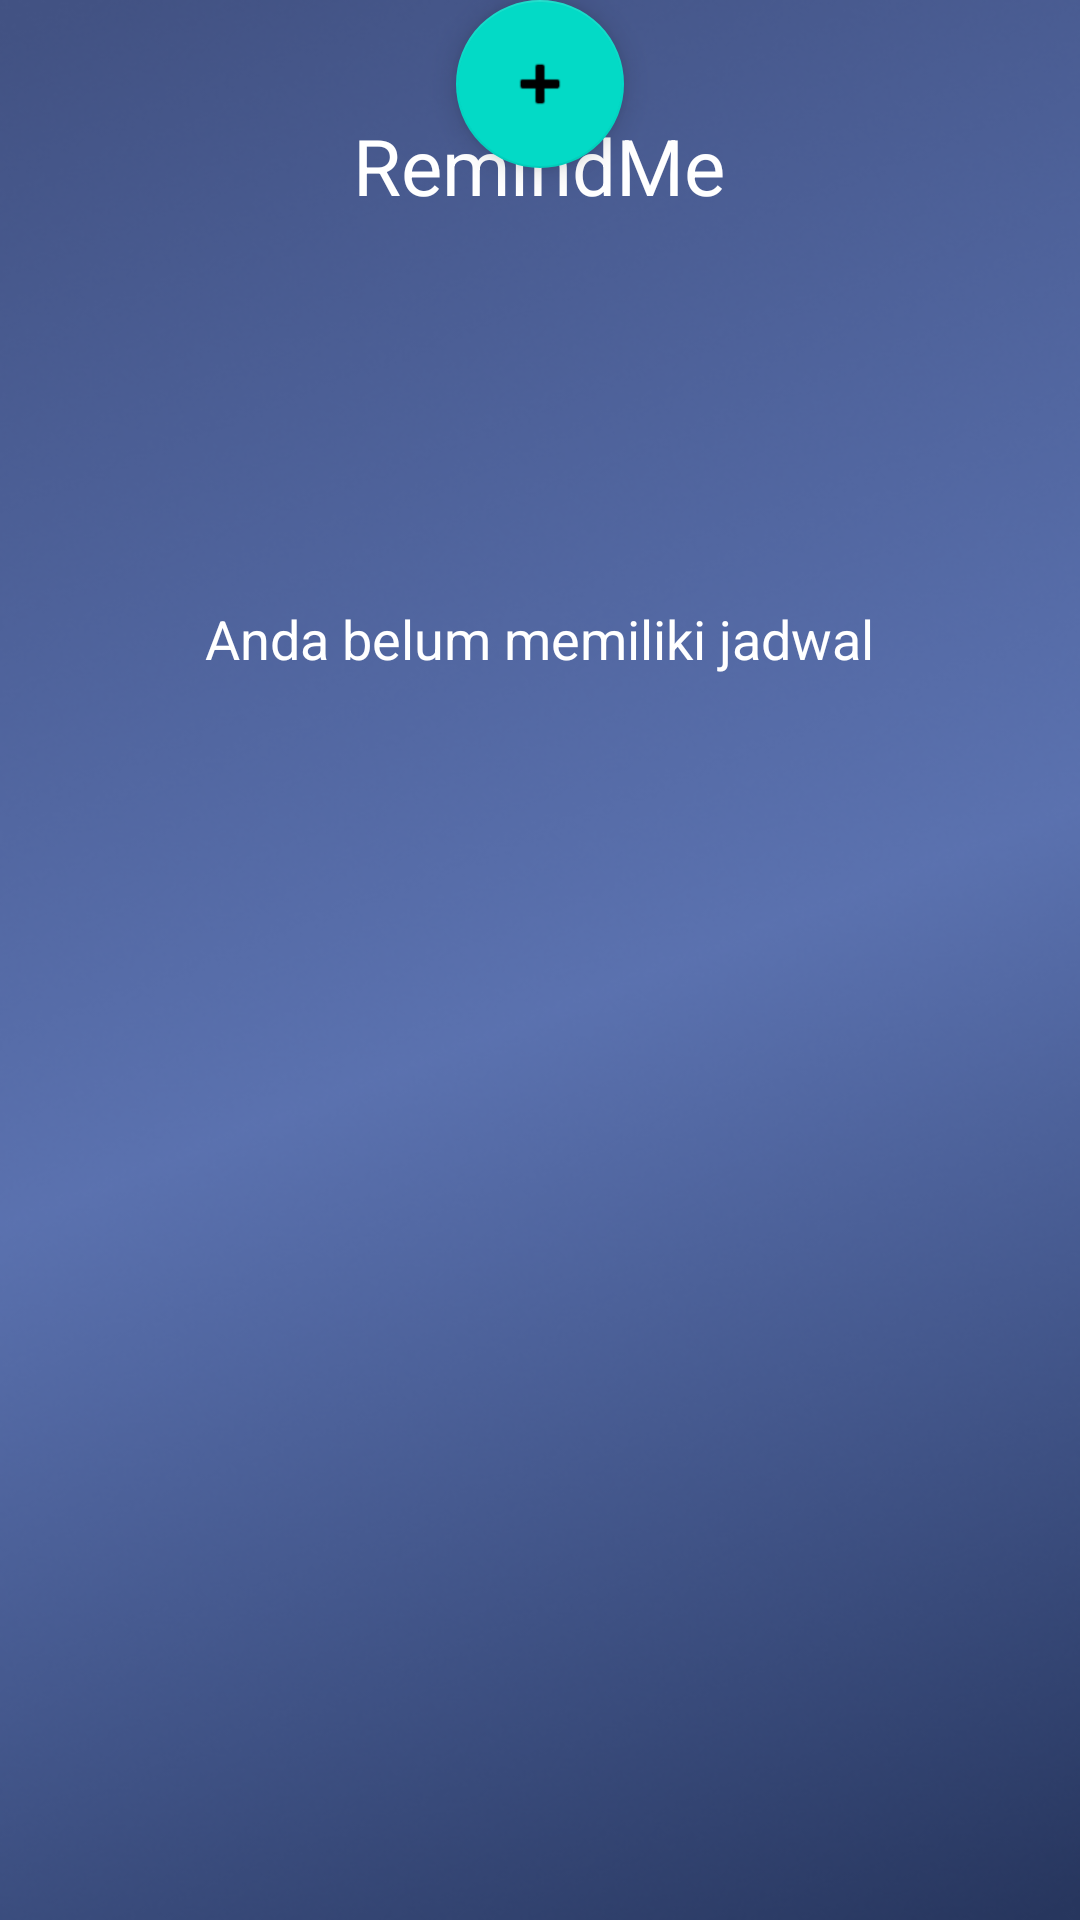

Where icons sit on this 1080px x 1920px app screen, as (x1, y1, x2, y2):
add: (456, 0, 624, 168)
